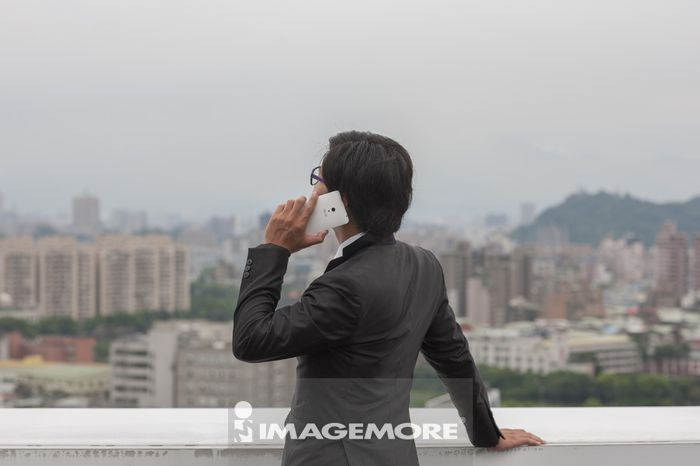phone: (303, 193, 349, 234)
